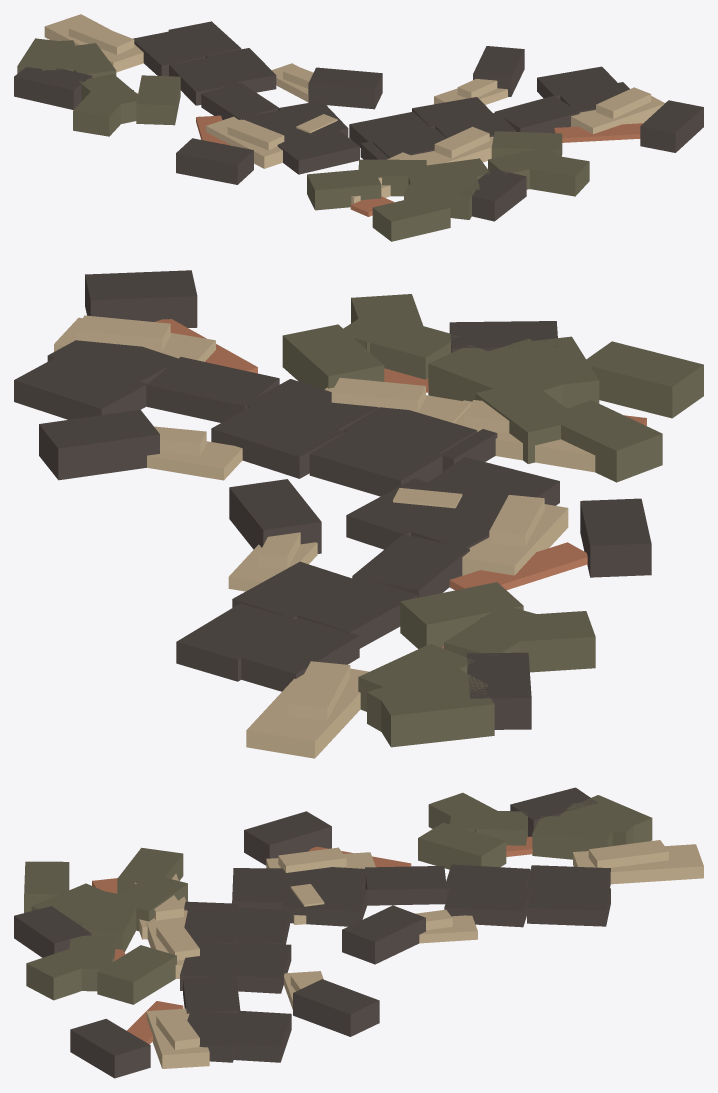
The model's file is SM_SacosEsquina_v3_Tablon_e3_Brecha_LOD0.fbx.
The picture shows the model from 3 angles, top to bottom: view 1: azimuth 30°, elevation 25°; view 2: azimuth 150°, elevation 25°; view 3: azimuth 270°, elevation 25°; orthographic projection. The views are drawn at different scales.
Visible parts, largest first — view 1: SM_sacos_piezas_v15_LOD0; view 2: SM_sacos_piezas_v15_LOD0; view 3: SM_sacos_piezas_v15_LOD0.
Boxes of the visible parts, box(x1,y1,x2,y2) form: SM_sacos_piezas_v15_LOD0: box(14, 14, 703, 241); SM_sacos_piezas_v15_LOD0: box(14, 270, 703, 758); SM_sacos_piezas_v15_LOD0: box(14, 787, 703, 1078).
Size of the model in its own units: 6.62 by 0.26 by 7.2.
